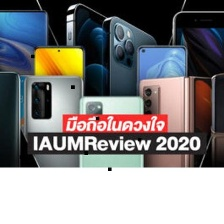phone: (62, 1, 146, 147), (172, 7, 224, 178), (0, 6, 51, 165), (20, 74, 89, 190), (76, 90, 146, 204), (99, 11, 165, 130), (28, 40, 92, 145), (136, 74, 196, 182), (132, 43, 191, 135), (0, 68, 25, 186), (207, 68, 224, 190)
